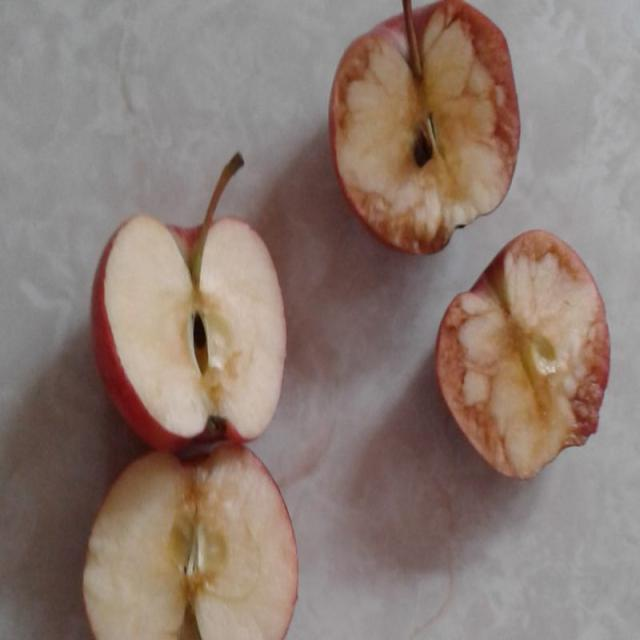apple_fruit: (20, 2, 637, 639), (90, 134, 322, 468), (313, 4, 562, 283), (429, 209, 627, 494), (58, 438, 324, 637)
